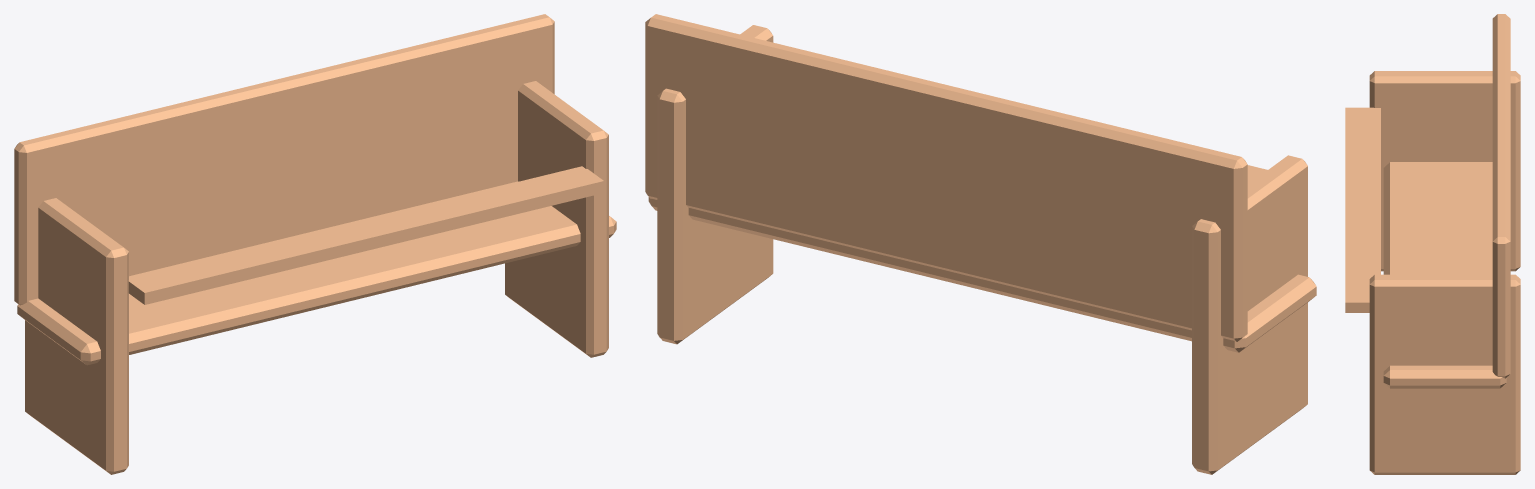
3 views of the same model, side by side, from view 1: azimuth 30°, elevation 25°; view 2: azimuth 150°, elevation 25°; view 3: azimuth 270°, elevation 25° (orthographic). The views are drawn at different scales.
Visible parts, largest first — view 1: Back, Seat, End panel, End panel.001, Book rest; view 2: Back, End panel, End panel.001, Seat; view 3: End panel.001, Seat, End panel, Book rest, Back.
Part boxes in pixels (left/top/right/bottom): Back: left=14, top=14, right=554, bottom=305; Seat: left=17, top=181, right=616, bottom=365; End panel: left=25, top=198, right=128, bottom=474; End panel.001: left=505, top=81, right=608, bottom=357; Book rest: left=128, top=166, right=603, bottom=304; Back: left=645, top=14, right=1247, bottom=341; End panel: left=1192, top=155, right=1307, bottom=474; End panel.001: left=657, top=25, right=773, bottom=344; Seat: left=648, top=197, right=1316, bottom=352; End panel.001: left=1369, top=274, right=1520, bottom=474; Seat: left=1383, top=162, right=1506, bottom=388; End panel: left=1369, top=71, right=1520, bottom=271; Book rest: left=1345, top=107, right=1380, bottom=312; Back: left=1492, top=14, right=1510, bottom=378.
Size of the model in its own units: 2.1 by 1.06 by 0.685.
Materials: 1 (1 with a texture image).
